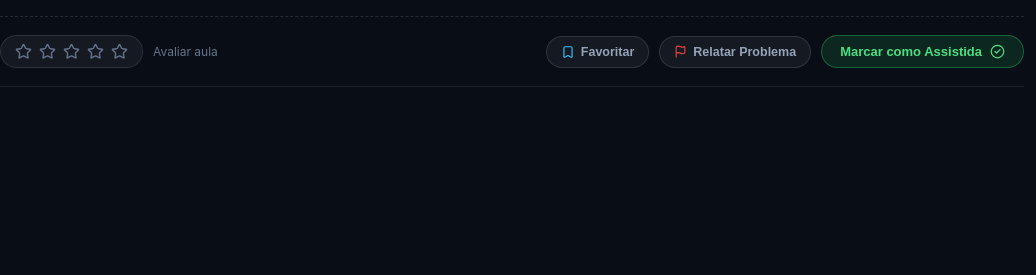
Test: LessonActionToolbar Component › displays +60 XP module bonus toast and +250 XP course bonus toast when completing module and course
The width and height of the screenshot is (1036, 275).
Click the button with test id "toggle-lesson-complete-btn": (923, 52) [821,35,1024,68]
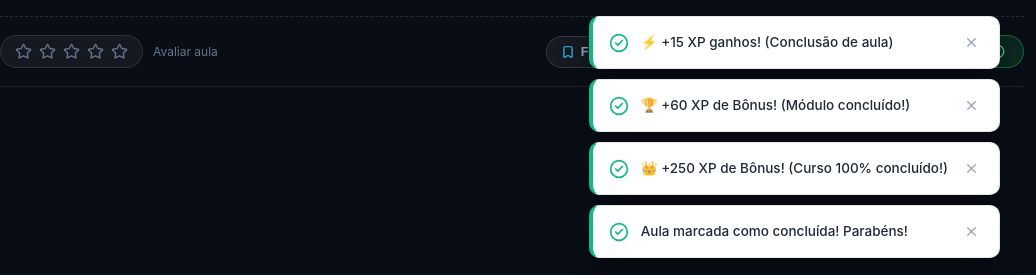
Check: the text "⚡ +15 XP ganhos! (Conclusão de aula)" is shown, box [641,34,894,50]
Check: the text "🏆 +60 XP de Bônus! (Módulo concluído!)" is shown, box [641,96,948,115]
Check: the text "👑 +250 XP de Bônus! (Curso 100% concluído!)" is shown, box [641,159,948,178]
